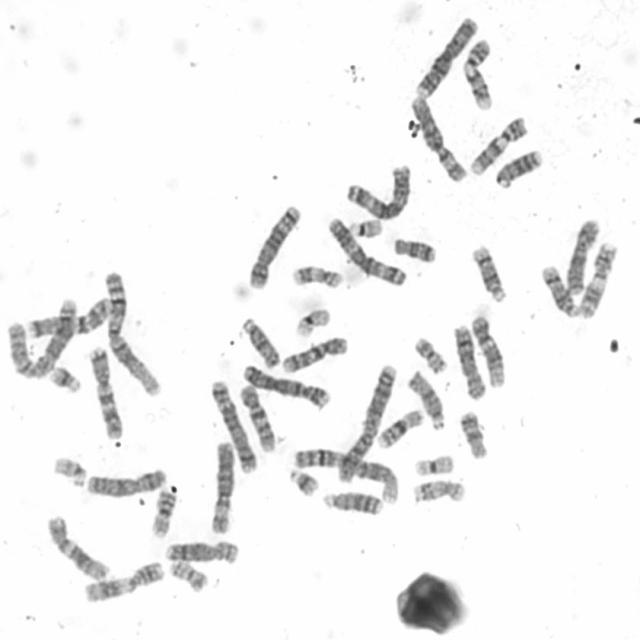A1: (101, 267, 164, 399), (292, 443, 401, 508)
A2: (334, 360, 400, 484), (5, 293, 78, 382)
A3: (324, 213, 408, 288), (342, 160, 412, 222)
B4: (412, 13, 478, 101), (239, 360, 332, 410)
B5: (245, 200, 302, 290), (208, 378, 258, 474)
C10: (278, 332, 350, 375), (236, 380, 277, 454)
C11: (80, 557, 164, 605), (576, 240, 619, 320)
C12: (43, 512, 110, 582), (468, 311, 507, 390)
C6: (407, 92, 469, 183), (206, 438, 236, 536)
C7: (24, 293, 115, 340), (85, 343, 126, 440)
C8: (450, 321, 488, 402), (162, 537, 241, 565)
C9: (466, 113, 530, 177), (460, 35, 494, 112)
D13: (492, 146, 544, 189), (320, 488, 385, 516)
D14: (468, 242, 508, 304), (538, 262, 581, 318)
D15: (405, 367, 447, 433), (239, 314, 282, 371)
E16: (373, 406, 425, 450), (148, 485, 178, 538)
E17: (290, 262, 345, 291), (412, 476, 466, 505)
E18: (458, 407, 488, 461), (390, 234, 439, 265)
F19: (292, 305, 332, 338), (411, 451, 457, 478)
F20: (411, 332, 450, 376), (168, 556, 210, 592)
G21: (46, 362, 84, 395), (286, 464, 320, 498)
G22: (51, 453, 88, 489), (346, 215, 385, 239)
X: (562, 215, 602, 295), (83, 465, 167, 498)
